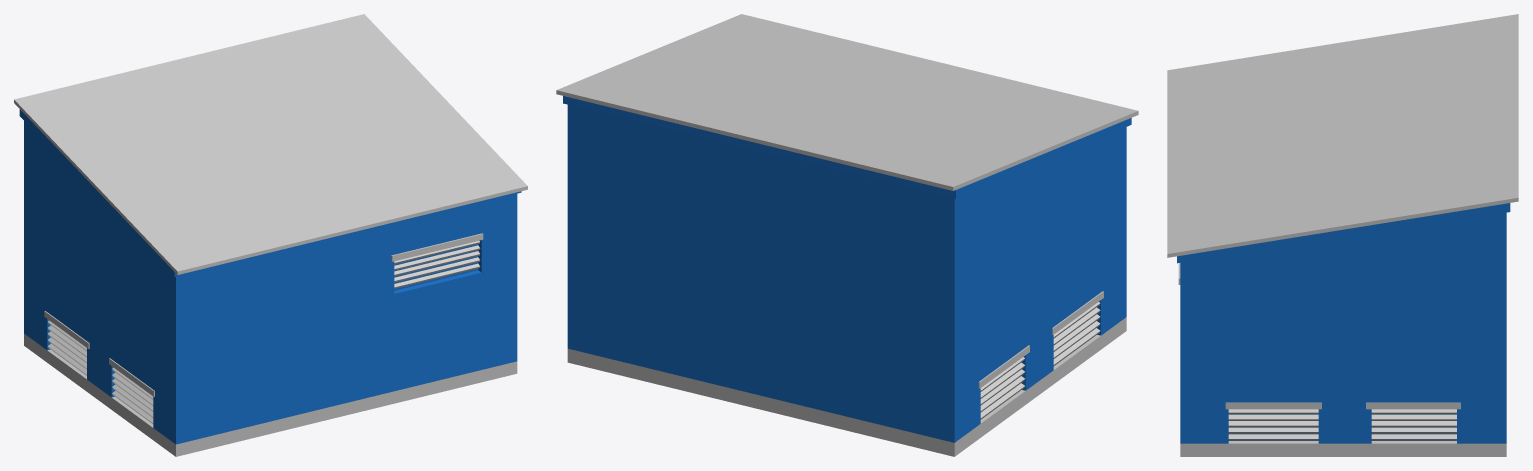
File: SM_transformer_3.fbx
3 renders of one model, left to right at view 1: azimuth 30°, elevation 25°; view 2: azimuth 150°, elevation 25°; view 3: azimuth 270°, elevation 25°, orthographic. The views are drawn at different scales.
Visible parts, largest first — view 1: Symmetry_6; view 2: Symmetry_6; view 3: Symmetry_6.
Boxes of the visible parts, x1,y1,x2,y2 form: Symmetry_6: [14, 14, 527, 456]; Symmetry_6: [556, 14, 1138, 456]; Symmetry_6: [1167, 14, 1518, 456].
Size of the model in its own units: 1007 by 668 by 814.
